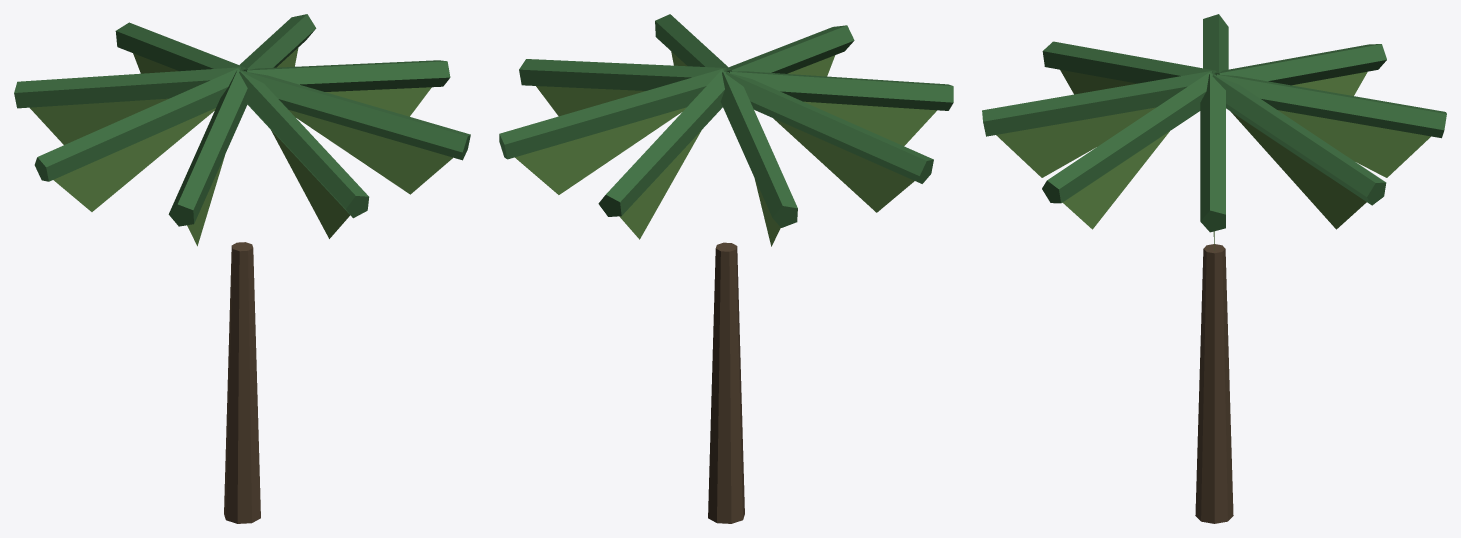
The model's file is tree_palm.glb.
The picture shows the model from 3 angles, left to right: view 1: azimuth 30°, elevation 25°; view 2: azimuth 150°, elevation 25°; view 3: azimuth 270°, elevation 25°; orthographic projection.
Visible parts, largest first — view 1: tree_palm; view 2: tree_palm; view 3: tree_palm.
Part boxes in pixels (x1=…): tree_palm: x1=14, y1=14, x2=470, y2=523; tree_palm: x1=499, y1=14, x2=953, y2=523; tree_palm: x1=982, y1=14, x2=1446, y2=523.
Size of the model in its own units: 5.86 by 6.17 by 5.86.
